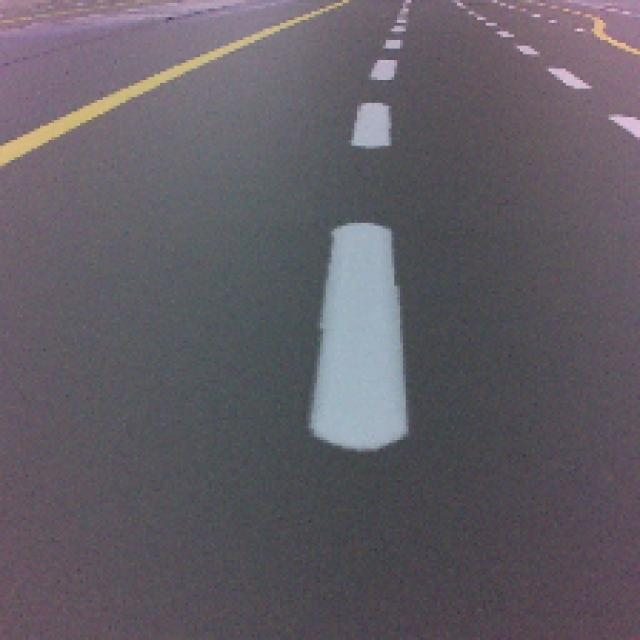Pedestrian crosswalk: (313, 219, 410, 452)
